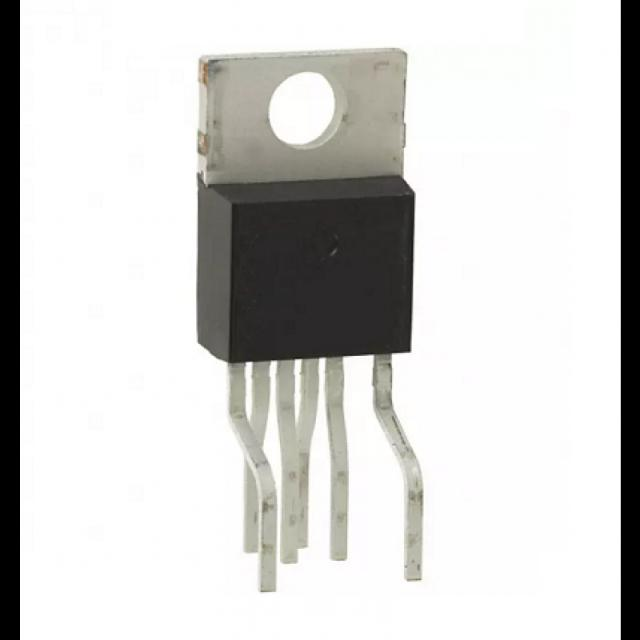Transistor: (202, 47, 440, 596)
